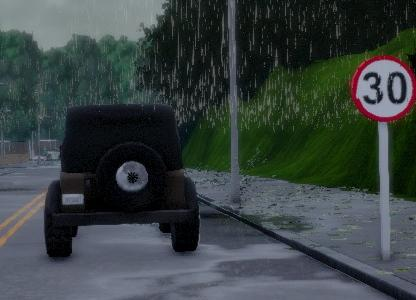Speed_30: (348, 53, 416, 126)
